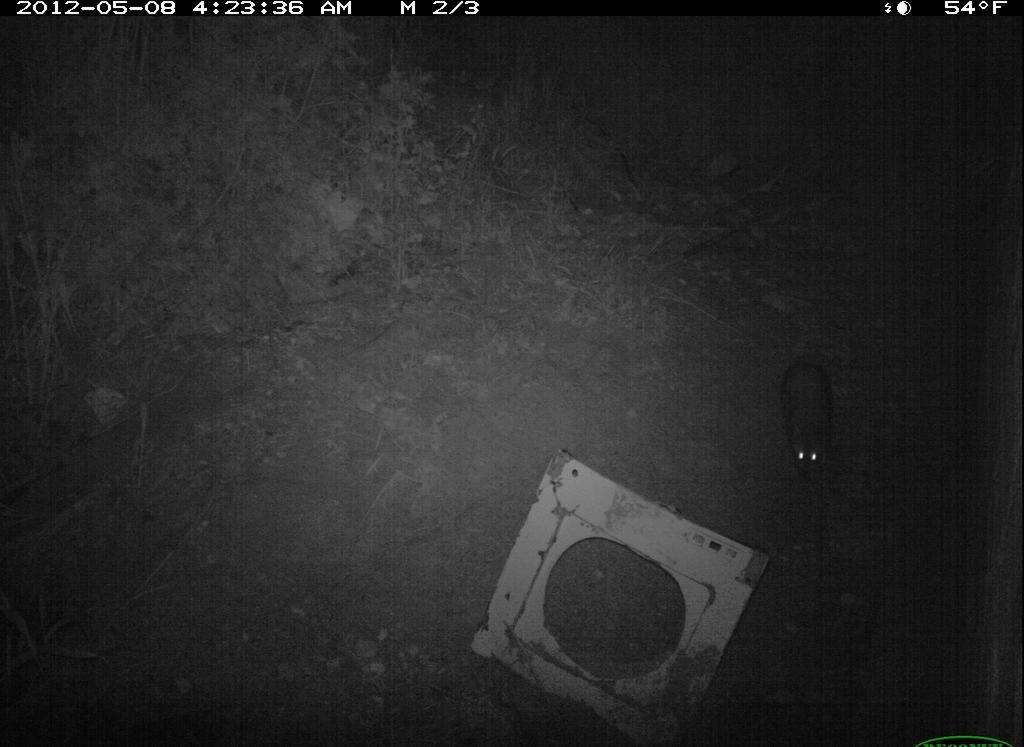raccoon: (771, 358, 841, 482)
